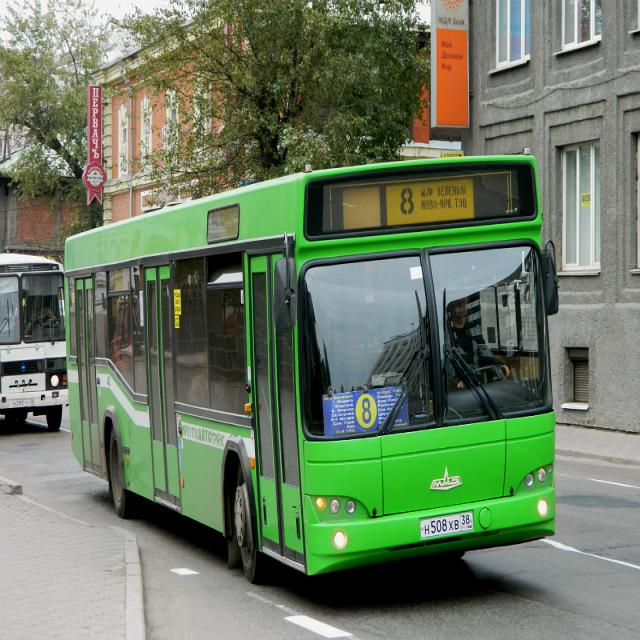number-of-bus: (400, 184, 418, 220), (360, 394, 376, 428)
